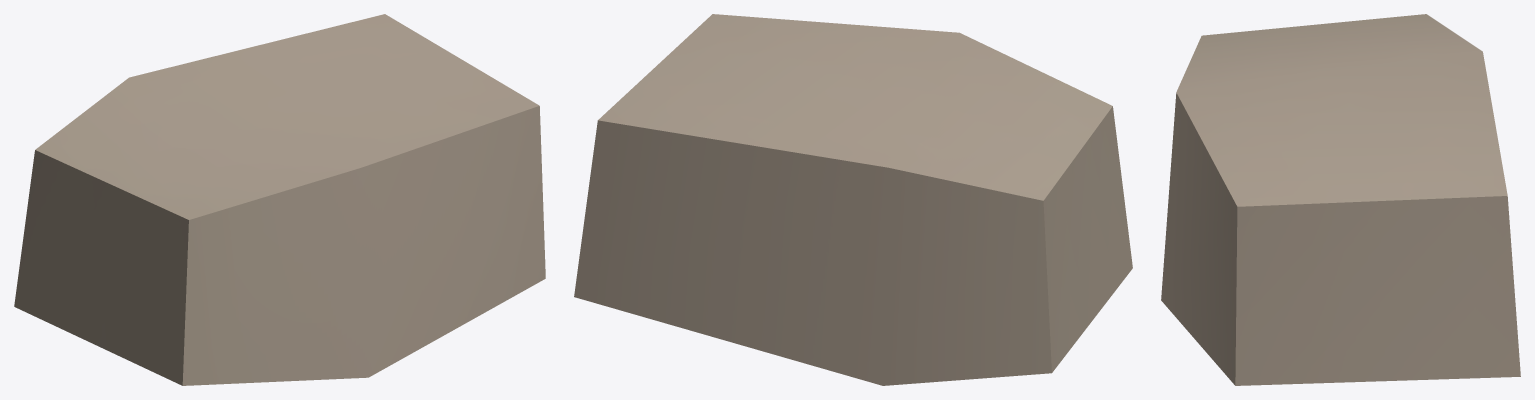
The model's file is FX_stone_A.glb.
3 renders of one model, left to right at view 1: azimuth 30°, elevation 25°; view 2: azimuth 150°, elevation 25°; view 3: azimuth 270°, elevation 25°, orthographic. The views are drawn at different scales.
Parts seen in each view (by area): view 1: FX_stone_A; view 2: FX_stone_A; view 3: FX_stone_A.
Boxes of the visible parts, left/top/right/bottom form: FX_stone_A: left=14, top=14, right=545, bottom=385; FX_stone_A: left=574, top=14, right=1132, bottom=385; FX_stone_A: left=1161, top=14, right=1520, bottom=385.
Bounding box in the file's own units: 0.7894 × 0.3575 × 0.5597.
Materials: 1 (1 with a texture image).
